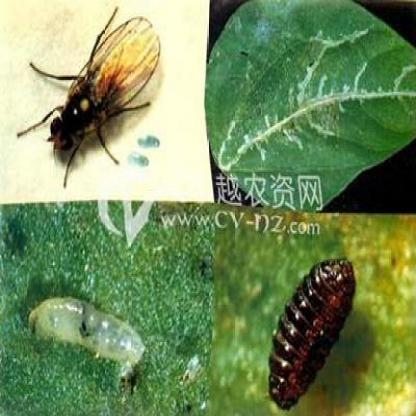whorl-maggot: (257, 252, 364, 416), (24, 286, 152, 376)
